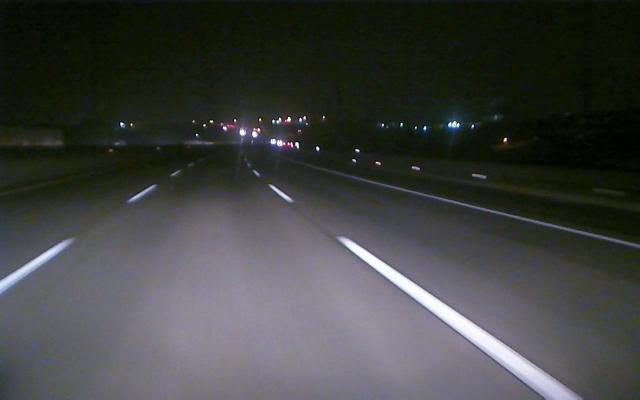lane: (268, 182, 582, 399), (354, 177, 640, 250), (2, 189, 150, 292)
